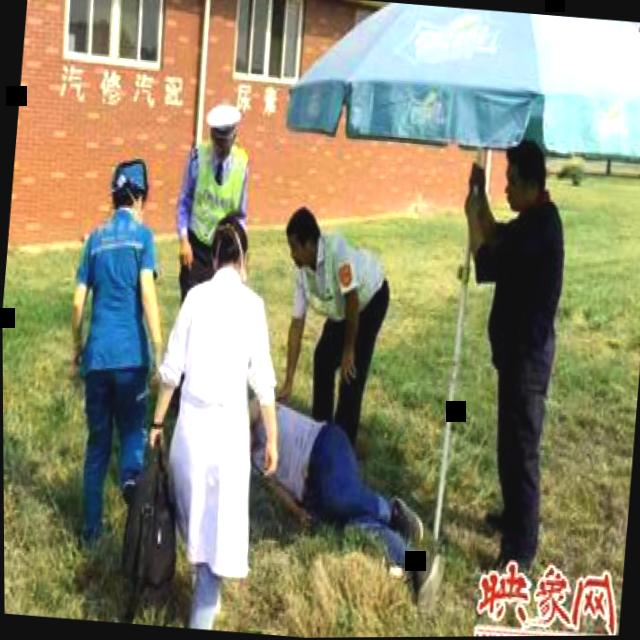Fall-Detected: (218, 374, 461, 603)
